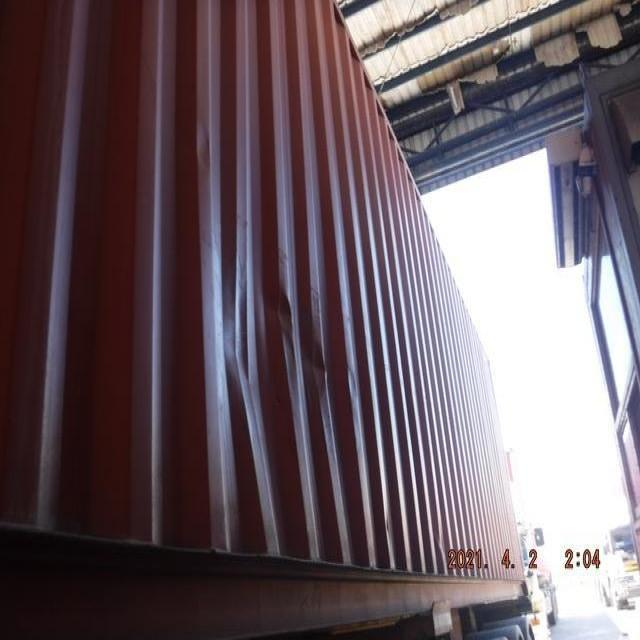dent: (201, 264, 365, 440)
